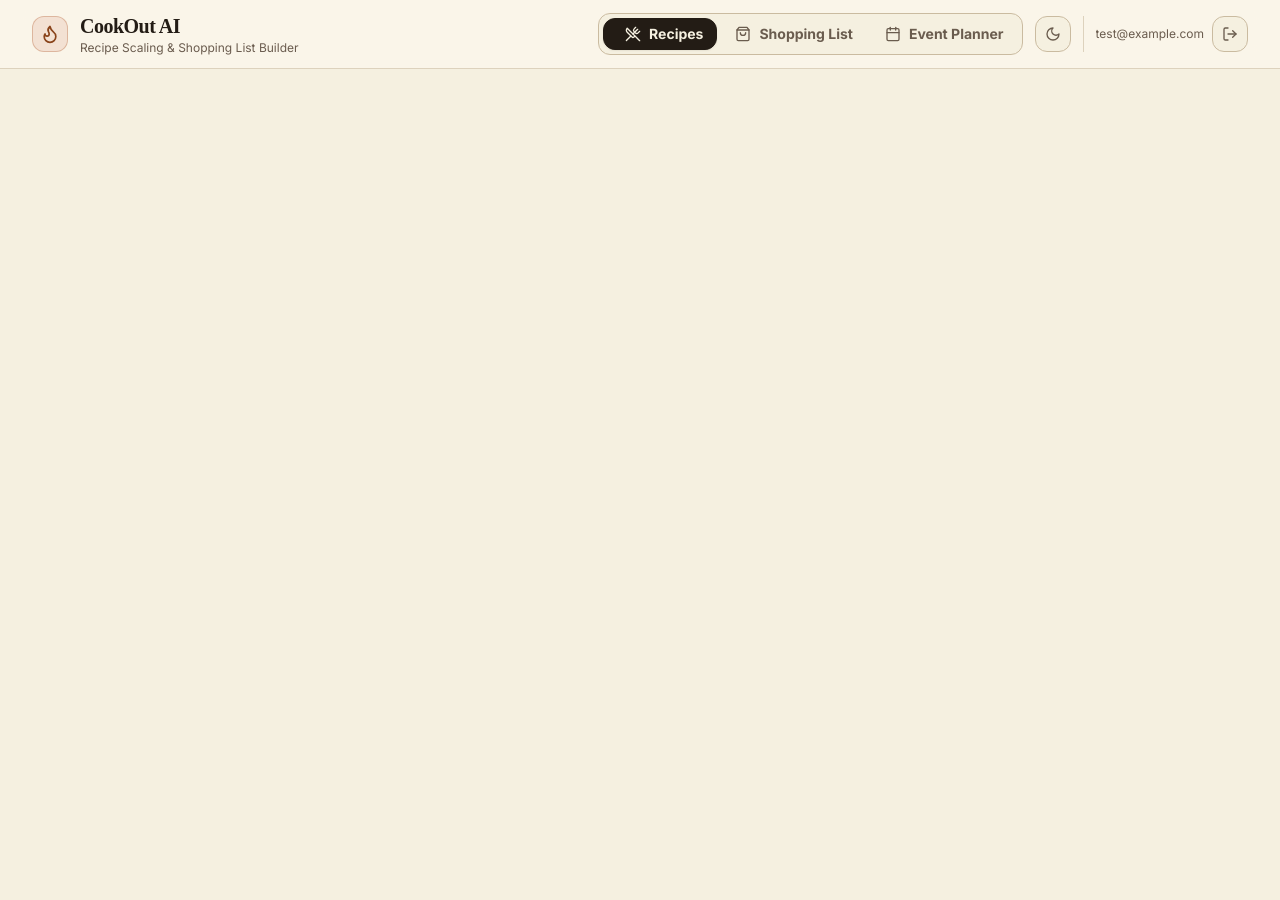
Test: Web UI (TanStack Query & App Integration Tests) › Event Planner UI Tests › recategorizing an item in the event-plan preview PUTs the override and re-plans with the same inputs
The image size is (1280, 900).
Click the button "Event Planner" at coordinates (944, 34), box [871,18,1018,50]
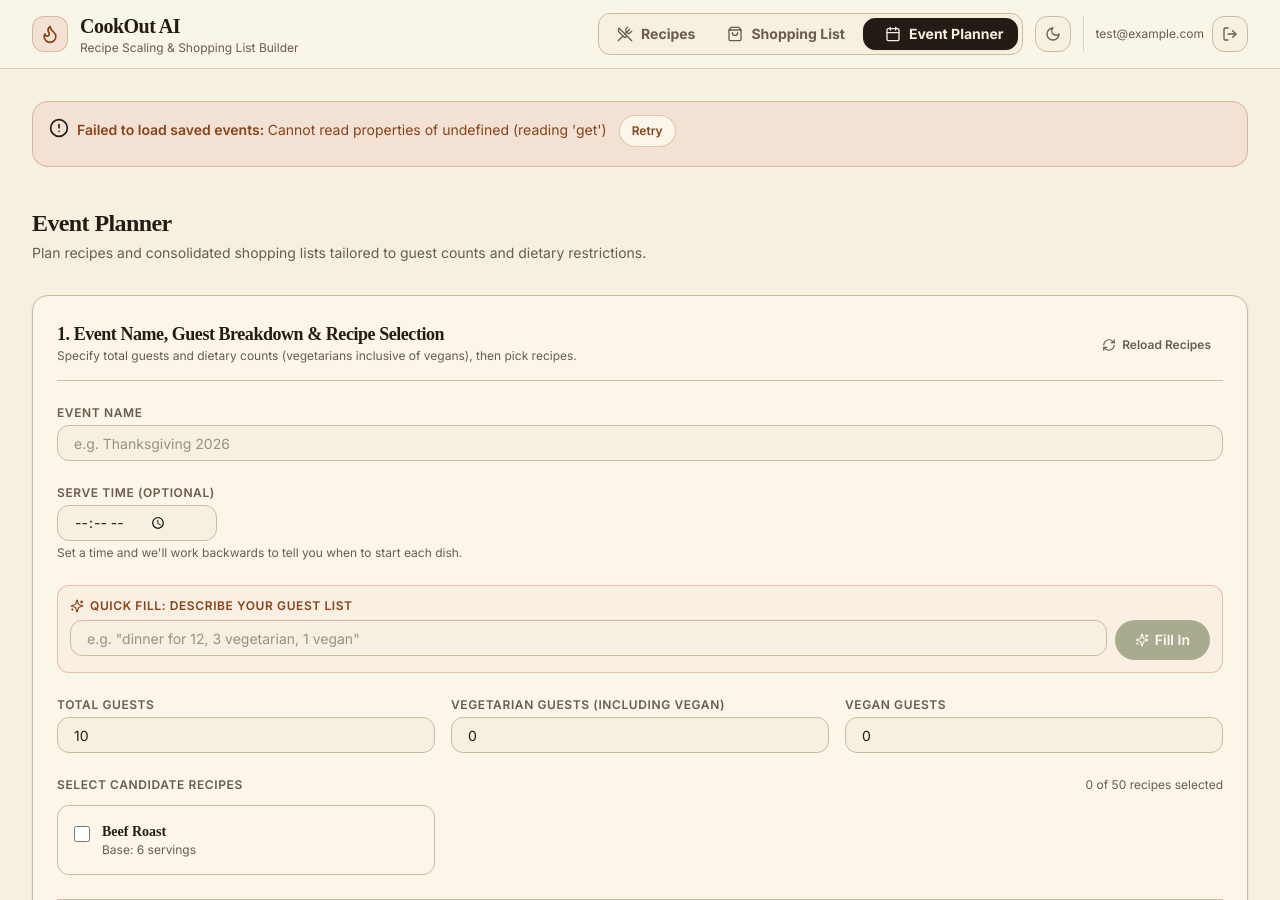
Now the text "Beef Roast" is shown, box [102,824,166,839]
Click the checkbox named "select recipe beef roast" at coordinates (82, 834), box [74,826,90,842]
(page scrolled)
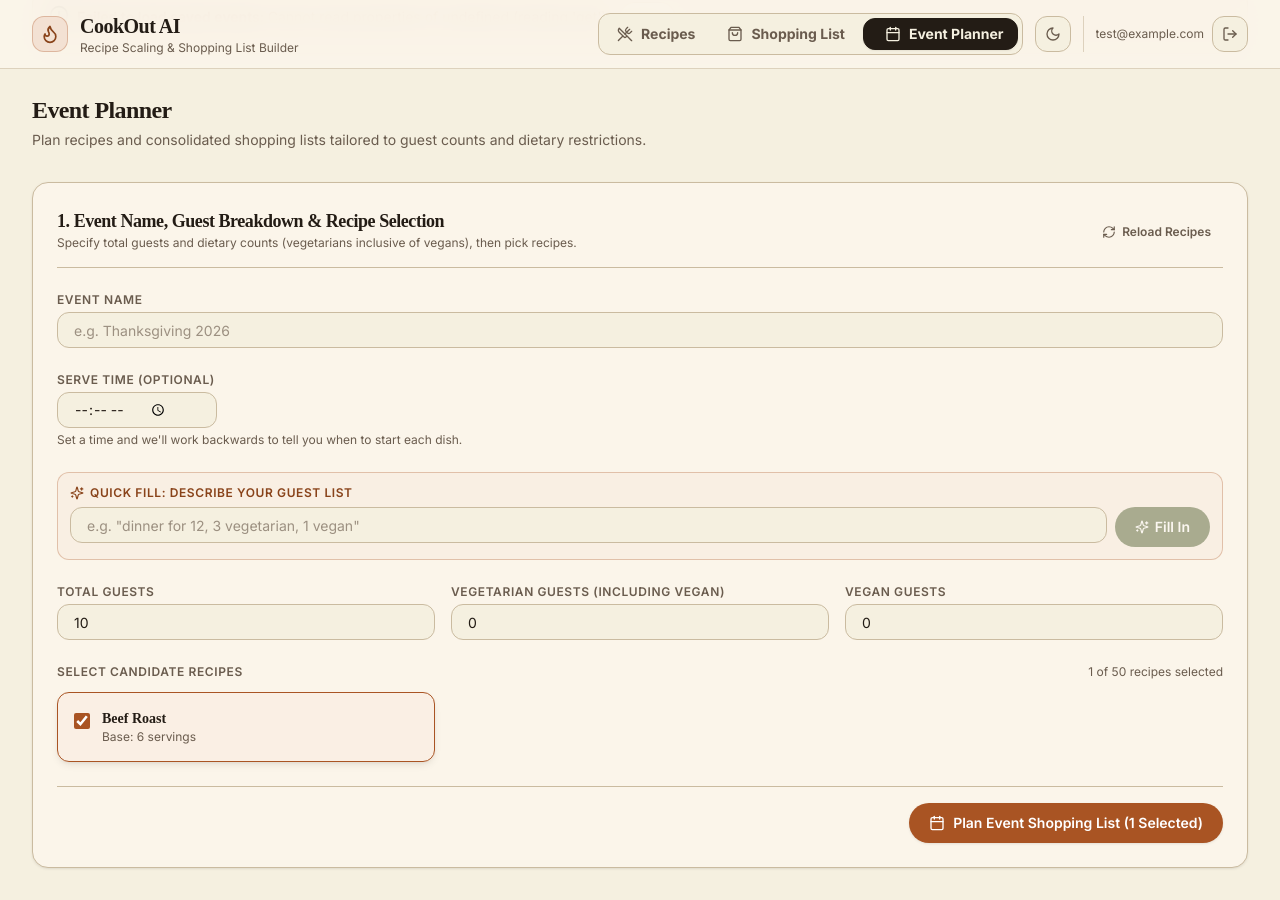
Click the button "Plan Event Shopping List (1 Selected)" at coordinates (1066, 823), box [909,803,1223,843]
(page scrolled)
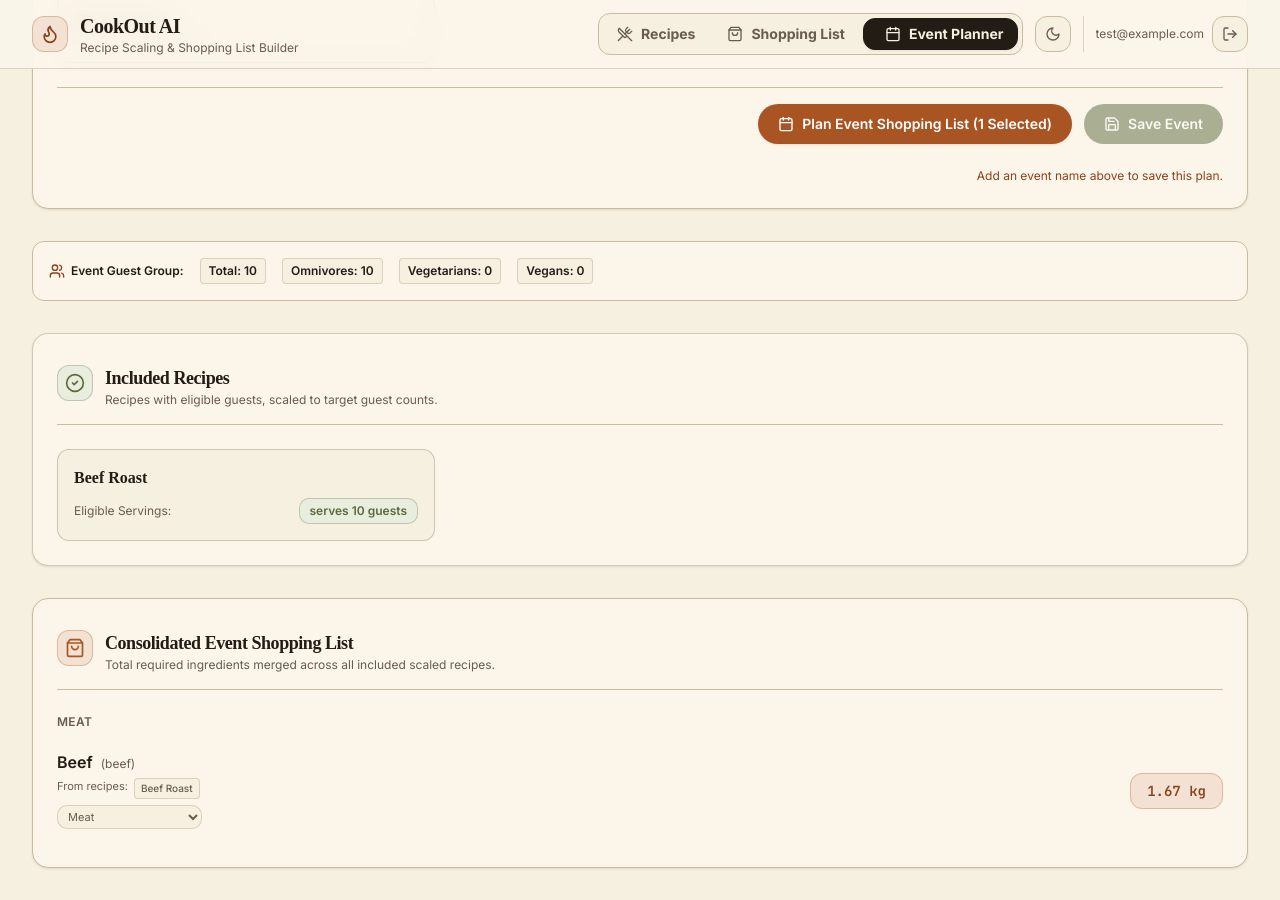
Now the heading "Consolidated Event Shopping List" is shown, box [105,633,353,653]
Now the dropdown named "Grocery category for Beef" shows "Meat"
Select "Frozen" in the dropdown named "Grocery category for Beef" at coordinates (130, 817), box [57,805,202,829]
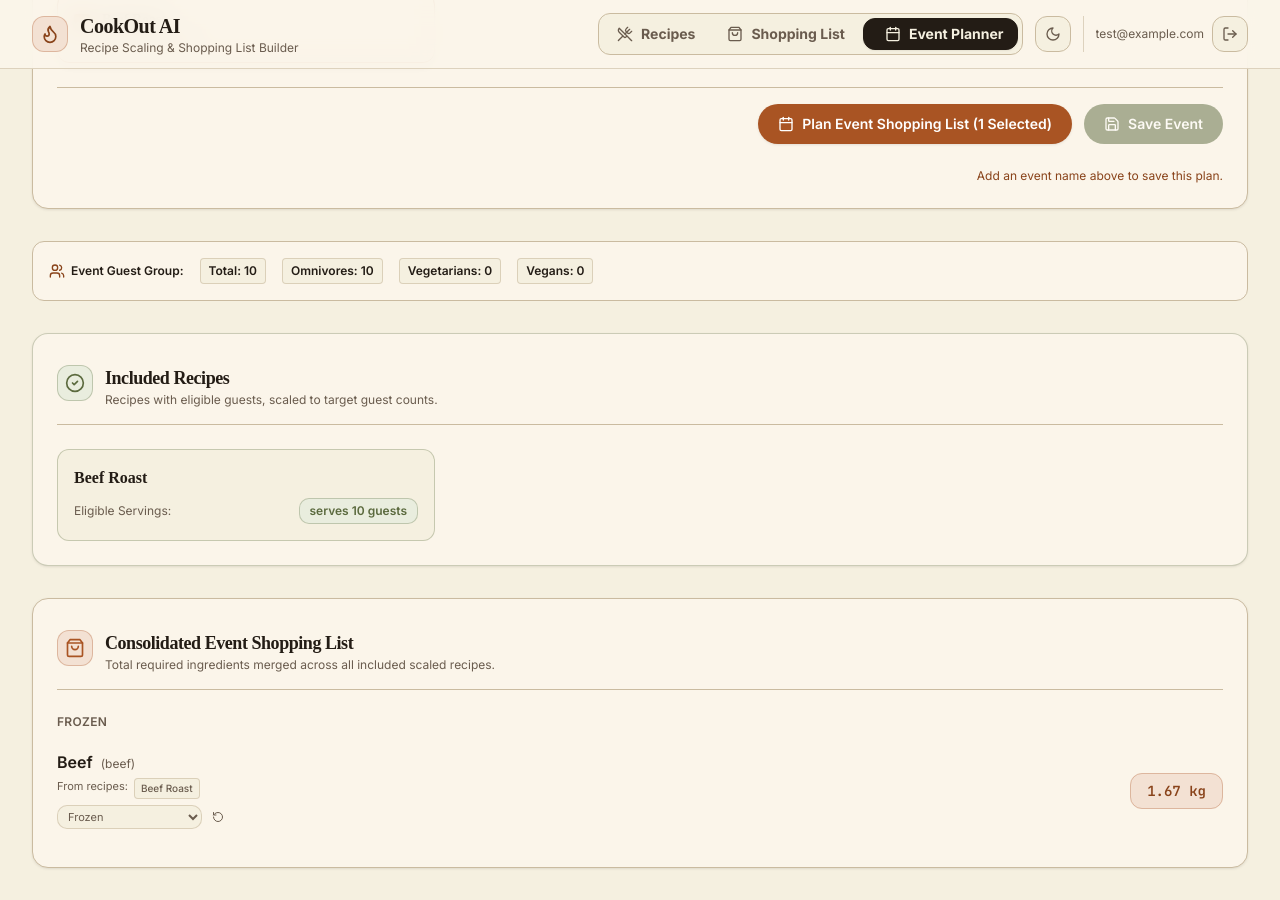
Now the button named "Reset Beef to its default category" is shown, box [206,805,230,829]
